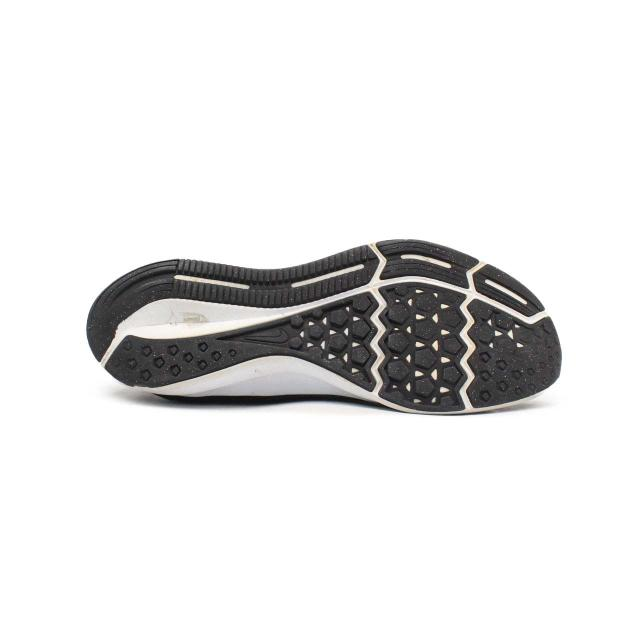outersole: (87, 239, 563, 413)
